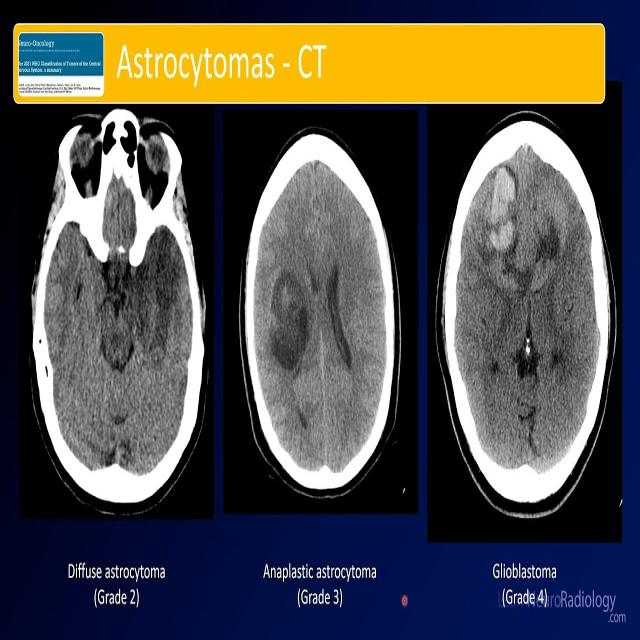Tumor: (267, 264, 312, 386), (488, 171, 525, 259), (98, 294, 136, 372)
